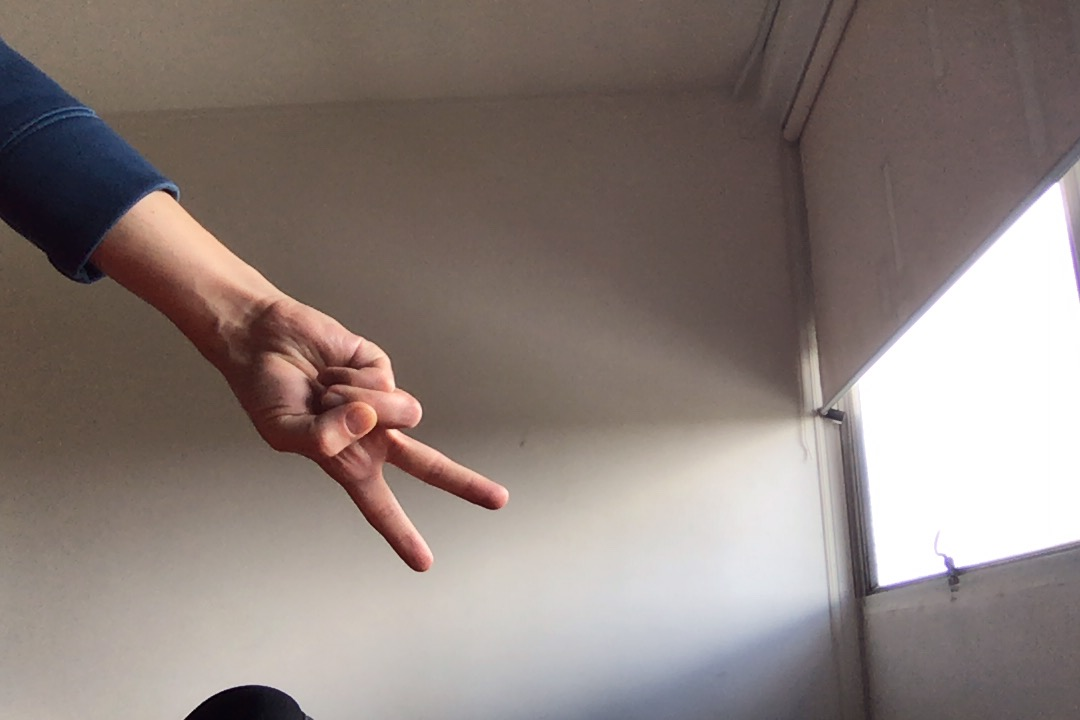peacesign: (244, 287, 517, 580)
